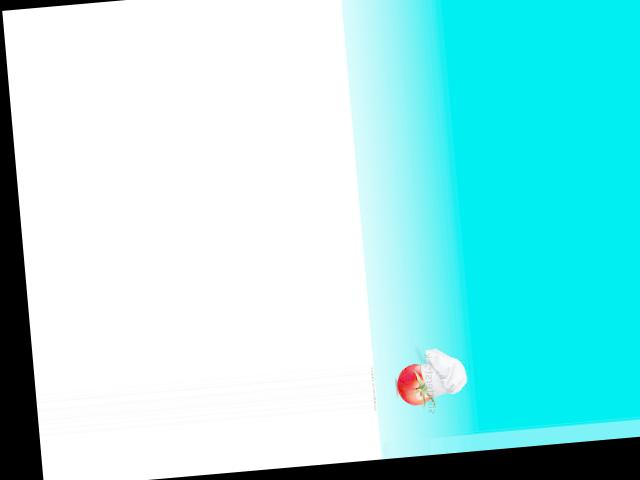tomato: (396, 362, 433, 405)
